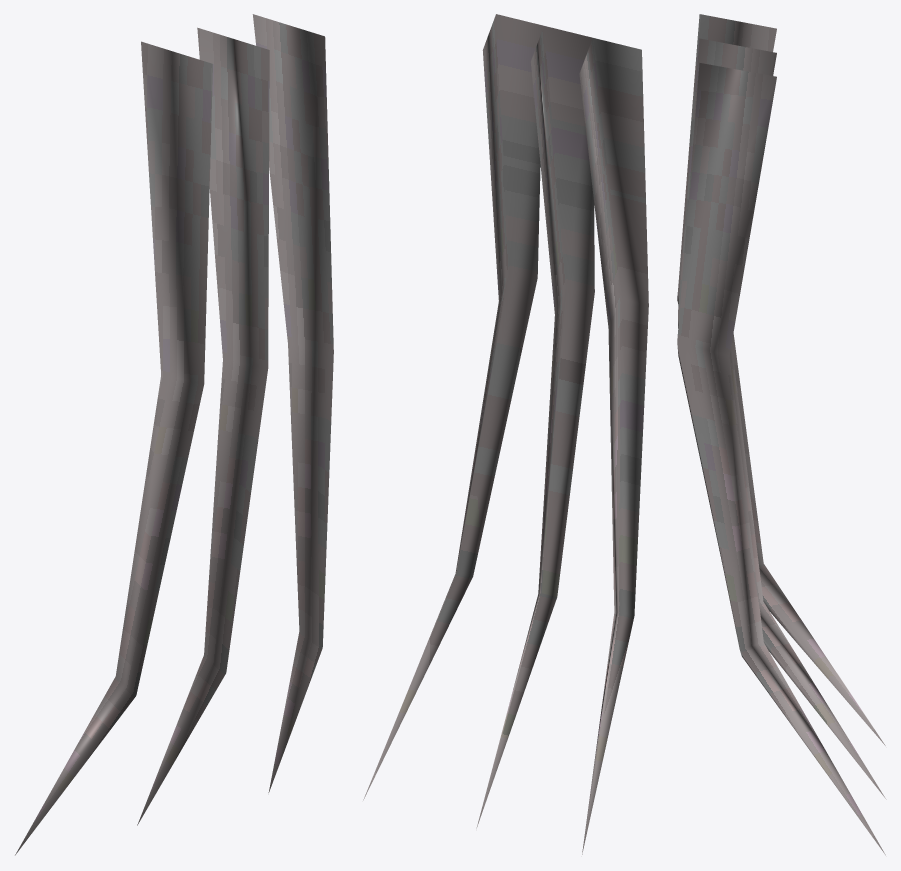
3 views of the same model, side by side, from view 1: azimuth 30°, elevation 25°; view 2: azimuth 150°, elevation 25°; view 3: azimuth 270°, elevation 25° (orthographic). The views are drawn at different scales.
Parts seen in each view (by area): view 1: it136; view 2: it136; view 3: it136.
Part boxes in pixels (box(x1,y1,x2,y2)): it136: box(15, 14, 333, 855); it136: box(363, 14, 648, 854); it136: box(677, 14, 886, 855).
Bounding box in the file's own units: 0.4507 × 1.44 × 0.3643.
Materials: 1 (1 with a texture image).
